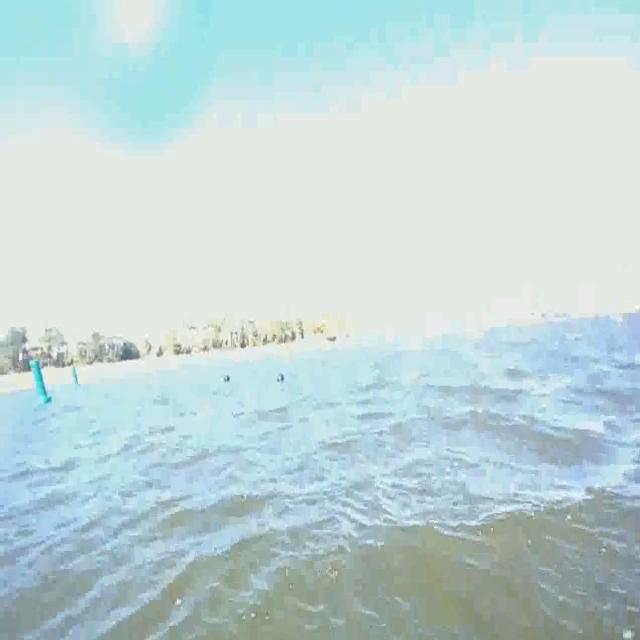black-buoy: (277, 373, 284, 383), (224, 374, 230, 382)
green-column-buoy: (28, 358, 54, 405), (71, 366, 81, 387)
